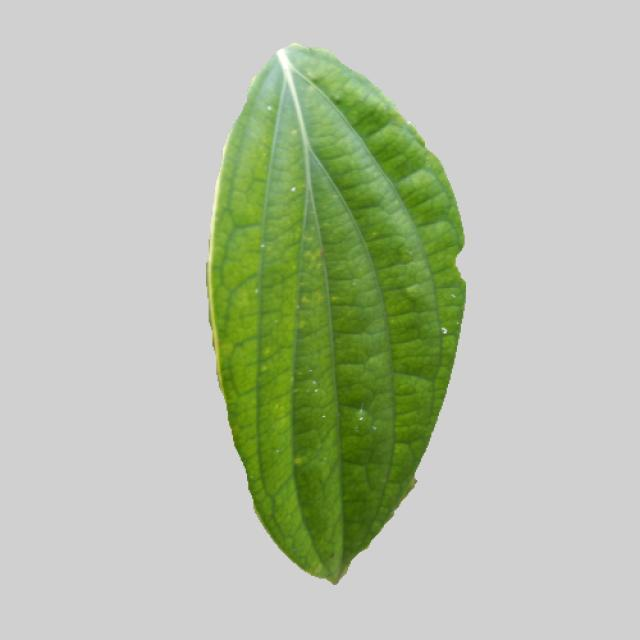healthy: (198, 36, 472, 596)
